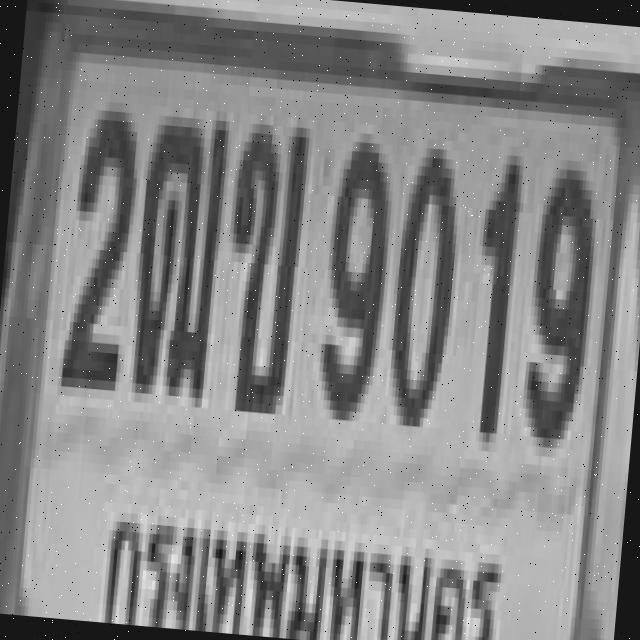0: (382, 136, 460, 418)
1: (463, 144, 521, 433)
11KhorKhai: (215, 113, 307, 405)
2: (58, 99, 140, 381)
27ThorPhuThao: (126, 104, 227, 388)
9: (312, 130, 394, 412), (520, 158, 598, 440)
Bangkok: (92, 486, 513, 640)
